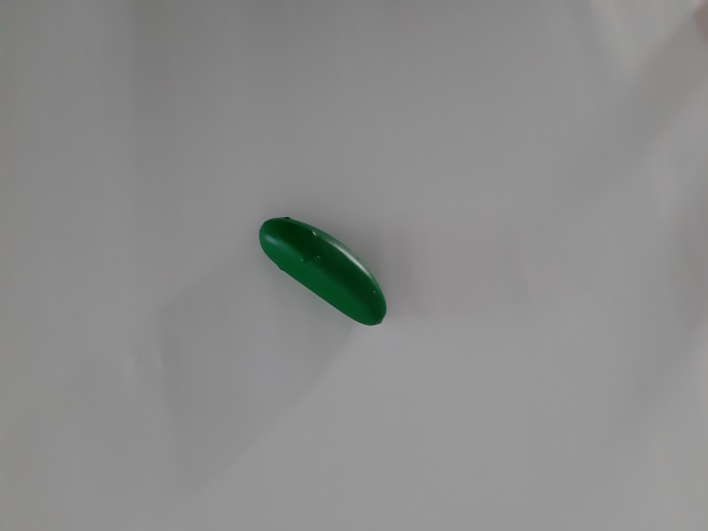cucumber: (236, 198, 418, 357)
